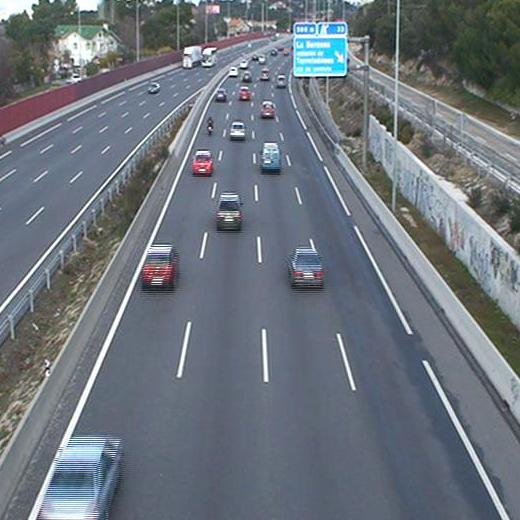car: (41, 442, 121, 520), (141, 246, 175, 287), (291, 248, 321, 283), (215, 195, 242, 229), (192, 150, 211, 175), (229, 121, 246, 139), (261, 100, 275, 117), (239, 87, 250, 103), (214, 90, 227, 103), (276, 76, 286, 90), (261, 68, 270, 82), (242, 71, 251, 82), (240, 58, 248, 70), (229, 66, 237, 77)
motorcycle: (205, 114, 215, 135)
van: (262, 142, 281, 170)
